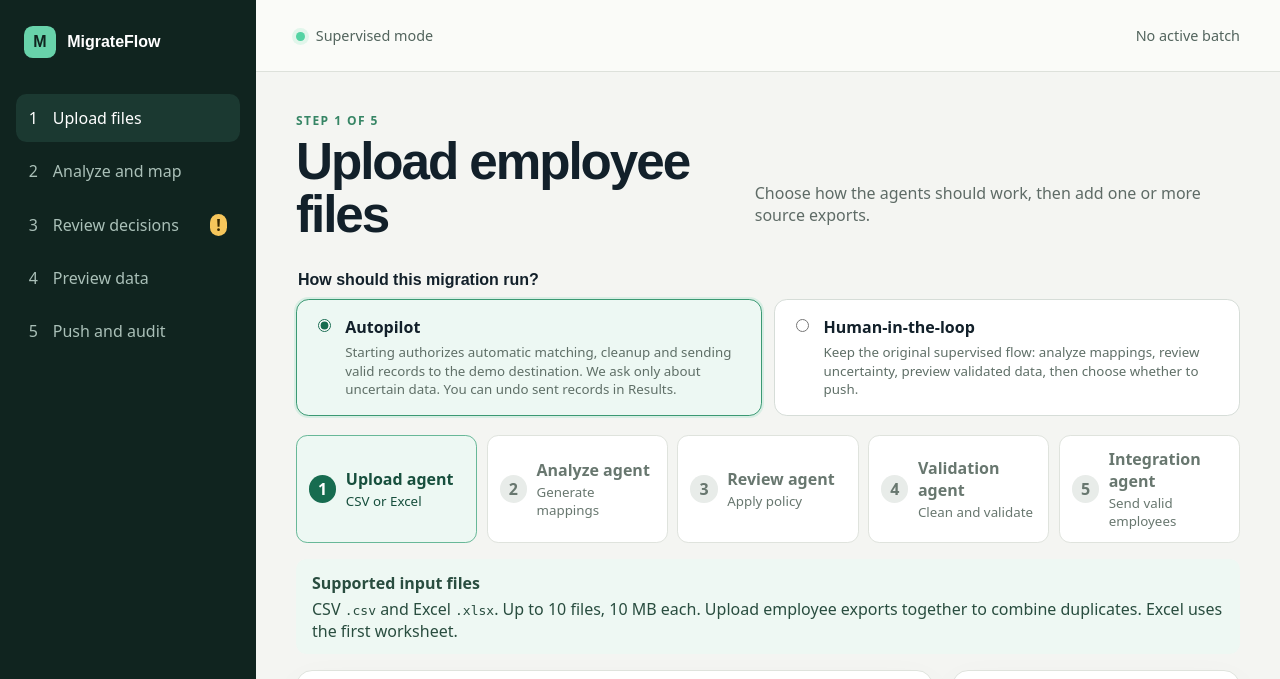
Scenario: App › shows an unmistakable empty live state
Click the button "2 Analyze and map". click: (128, 171)
box: [16,148,240,195]
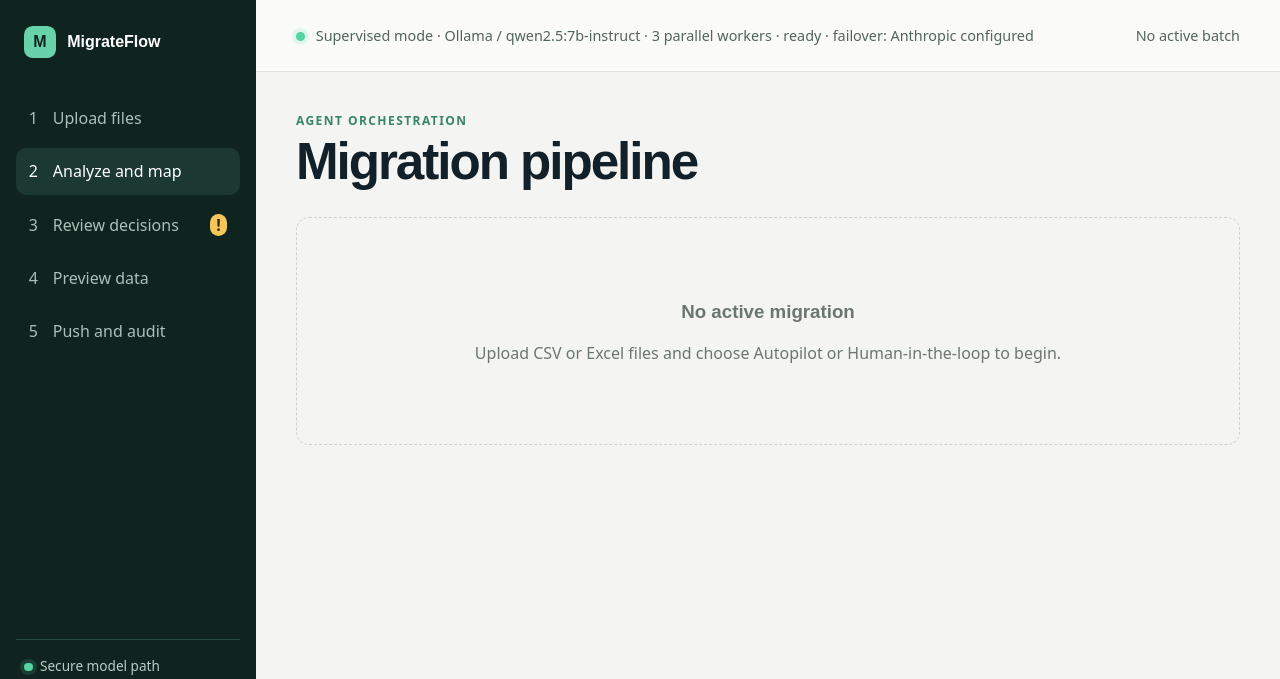
Expected: the heading "No active migration" is shown, [681,301,855,322]
